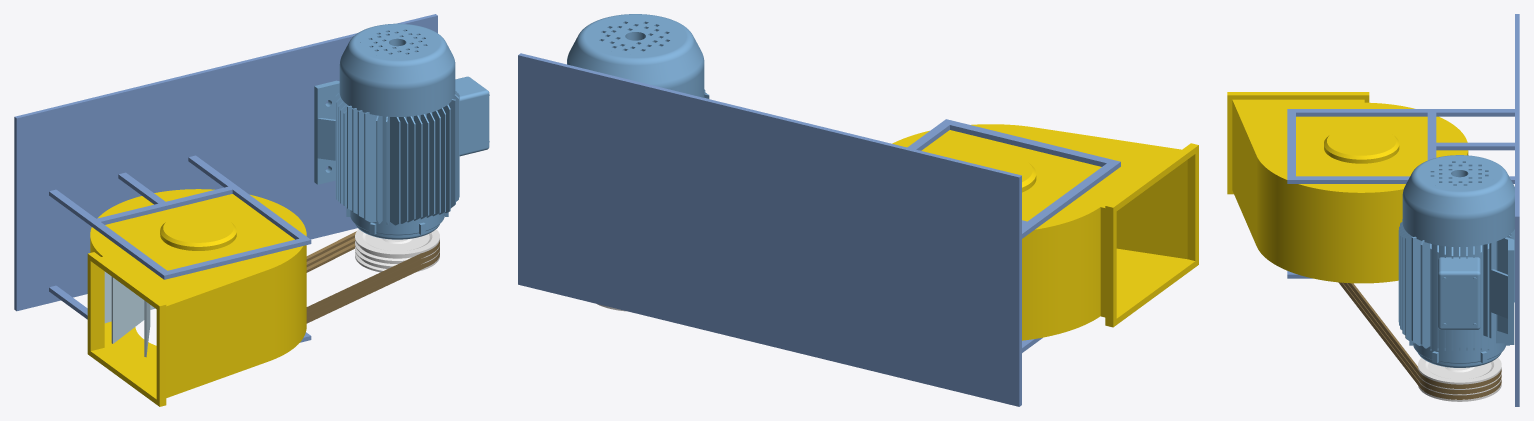
Rendered from InductionMotor.glb.
The picture shows the model from 3 angles, left to right: view 1: azimuth 30°, elevation 25°; view 2: azimuth 150°, elevation 25°; view 3: azimuth 270°, elevation 25°; orthographic projection. The views are drawn at different scales.
Parts seen in each view (by area): view 1: Part 10, Part 7, Motor, Part 2, Part 8, Part 6, Part 4, Part 5; view 2: Part 10, Part 7, Motor; view 3: Part 7, Motor, Part 10, Part 2, Part 6, Part 4, Part 5.
Part boxes in pixels (bbox=[...]): Part 10: bbox=[14, 14, 437, 342]; Part 7: bbox=[87, 189, 306, 406]; Motor: bbox=[314, 23, 489, 239]; Part 2: bbox=[355, 229, 439, 272]; Part 8: bbox=[104, 271, 154, 357]; Part 6: bbox=[306, 231, 439, 312]; Part 4: bbox=[306, 243, 439, 323]; Part 5: bbox=[306, 238, 439, 317]; Part 10: bbox=[518, 53, 1120, 406]; Part 7: bbox=[892, 124, 1198, 340]; Motor: bbox=[567, 14, 709, 98]; Part 7: bbox=[1227, 92, 1468, 283]; Motor: bbox=[1398, 155, 1514, 367]; Part 10: bbox=[1287, 14, 1519, 406]; Part 2: bbox=[1418, 357, 1501, 401]; Part 6: bbox=[1347, 283, 1501, 388]; Part 4: bbox=[1338, 282, 1501, 399]; Part 5: bbox=[1343, 282, 1501, 394].
Size of the model in its own units: 1.67 by 0.7748 by 0.9739.
